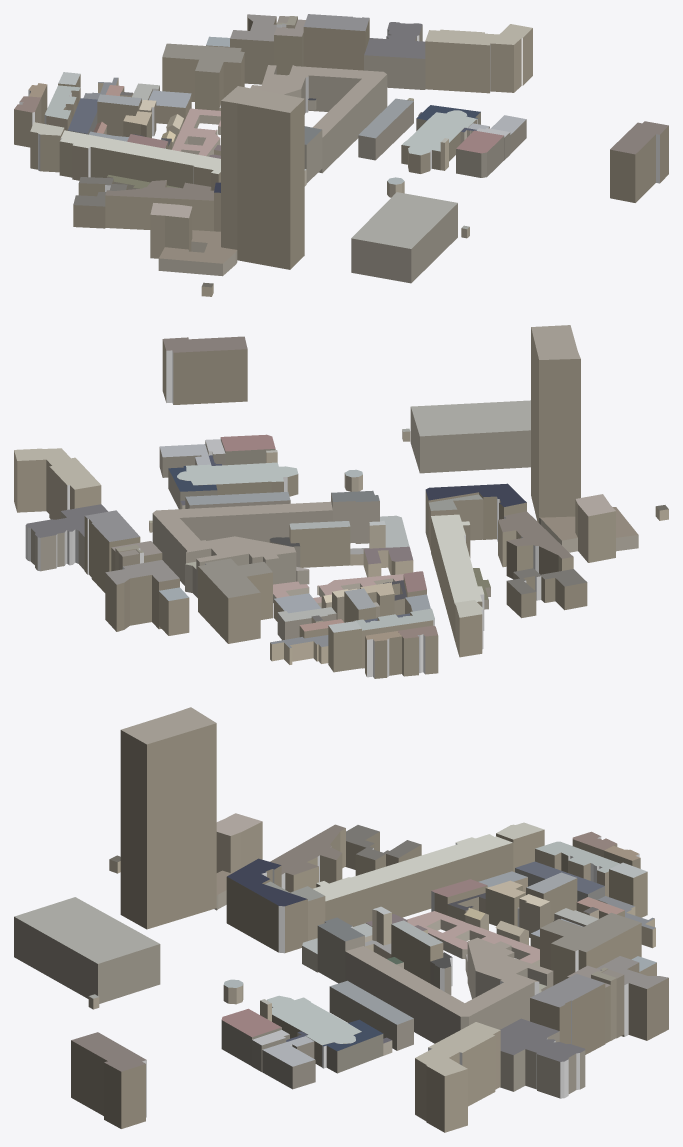
The picture shows the model from 3 angles, top to bottom: view 1: azimuth 30°, elevation 25°; view 2: azimuth 150°, elevation 25°; view 3: azimuth 270°, elevation 25°; orthographic projection. The views are drawn at different scales.
Visible parts, largest first — view 1: tuile; view 2: tuile; view 3: tuile.
Part boxes in pixels (x1=…): tuile: x1=14, y1=14, x2=668, y2=296; tuile: x1=14, y1=325, x2=668, y2=678; tuile: x1=14, y1=707, x2=668, y2=1132.
Size of the model in its own units: 283 by 88.19 by 275.
